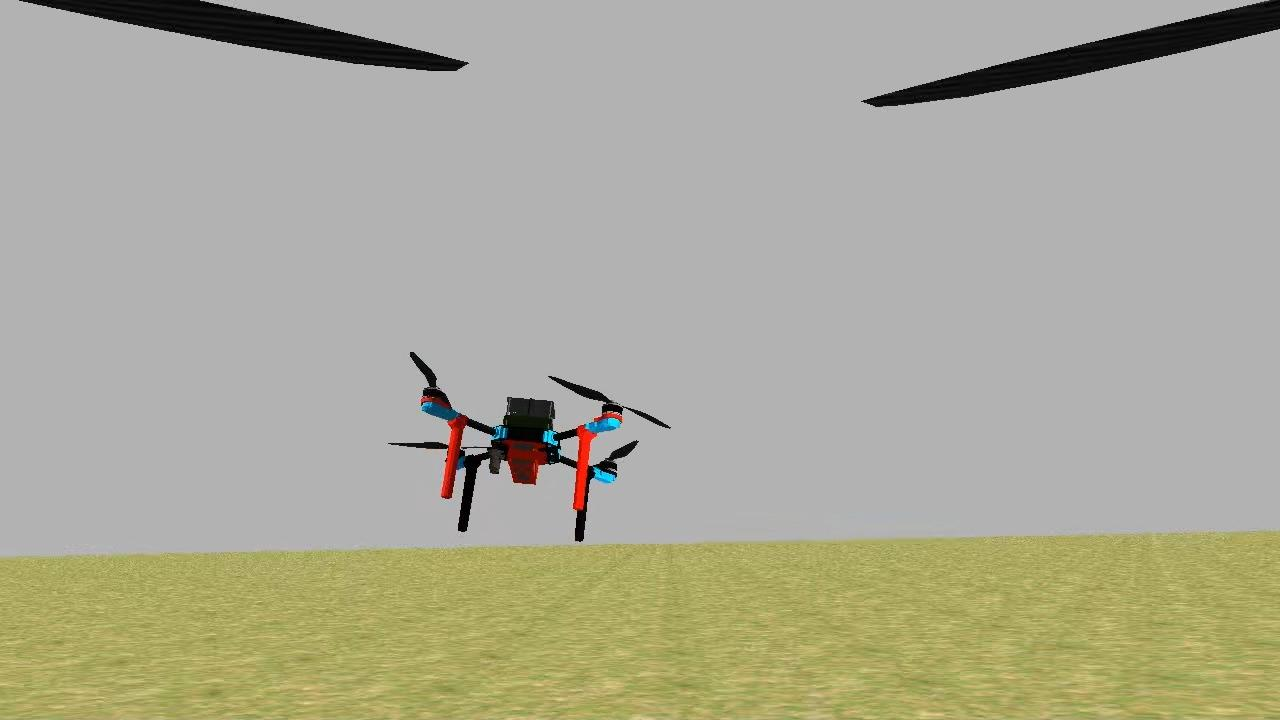UAV: (408, 378, 634, 556)
